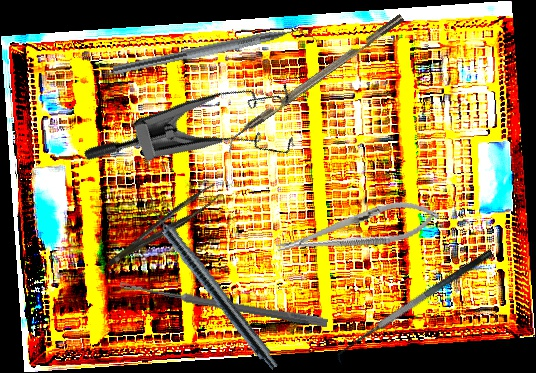Chopper: (220, 13, 411, 156), (110, 18, 322, 90)
Handpiece: (139, 194, 284, 373)
Needle Holder: (272, 193, 443, 267)
Spatula Surgical: (330, 248, 503, 369)
Speculum: (80, 47, 317, 241)
Surgical Spoon: (118, 280, 329, 328)
Tissue Forceps: (99, 183, 225, 267)
